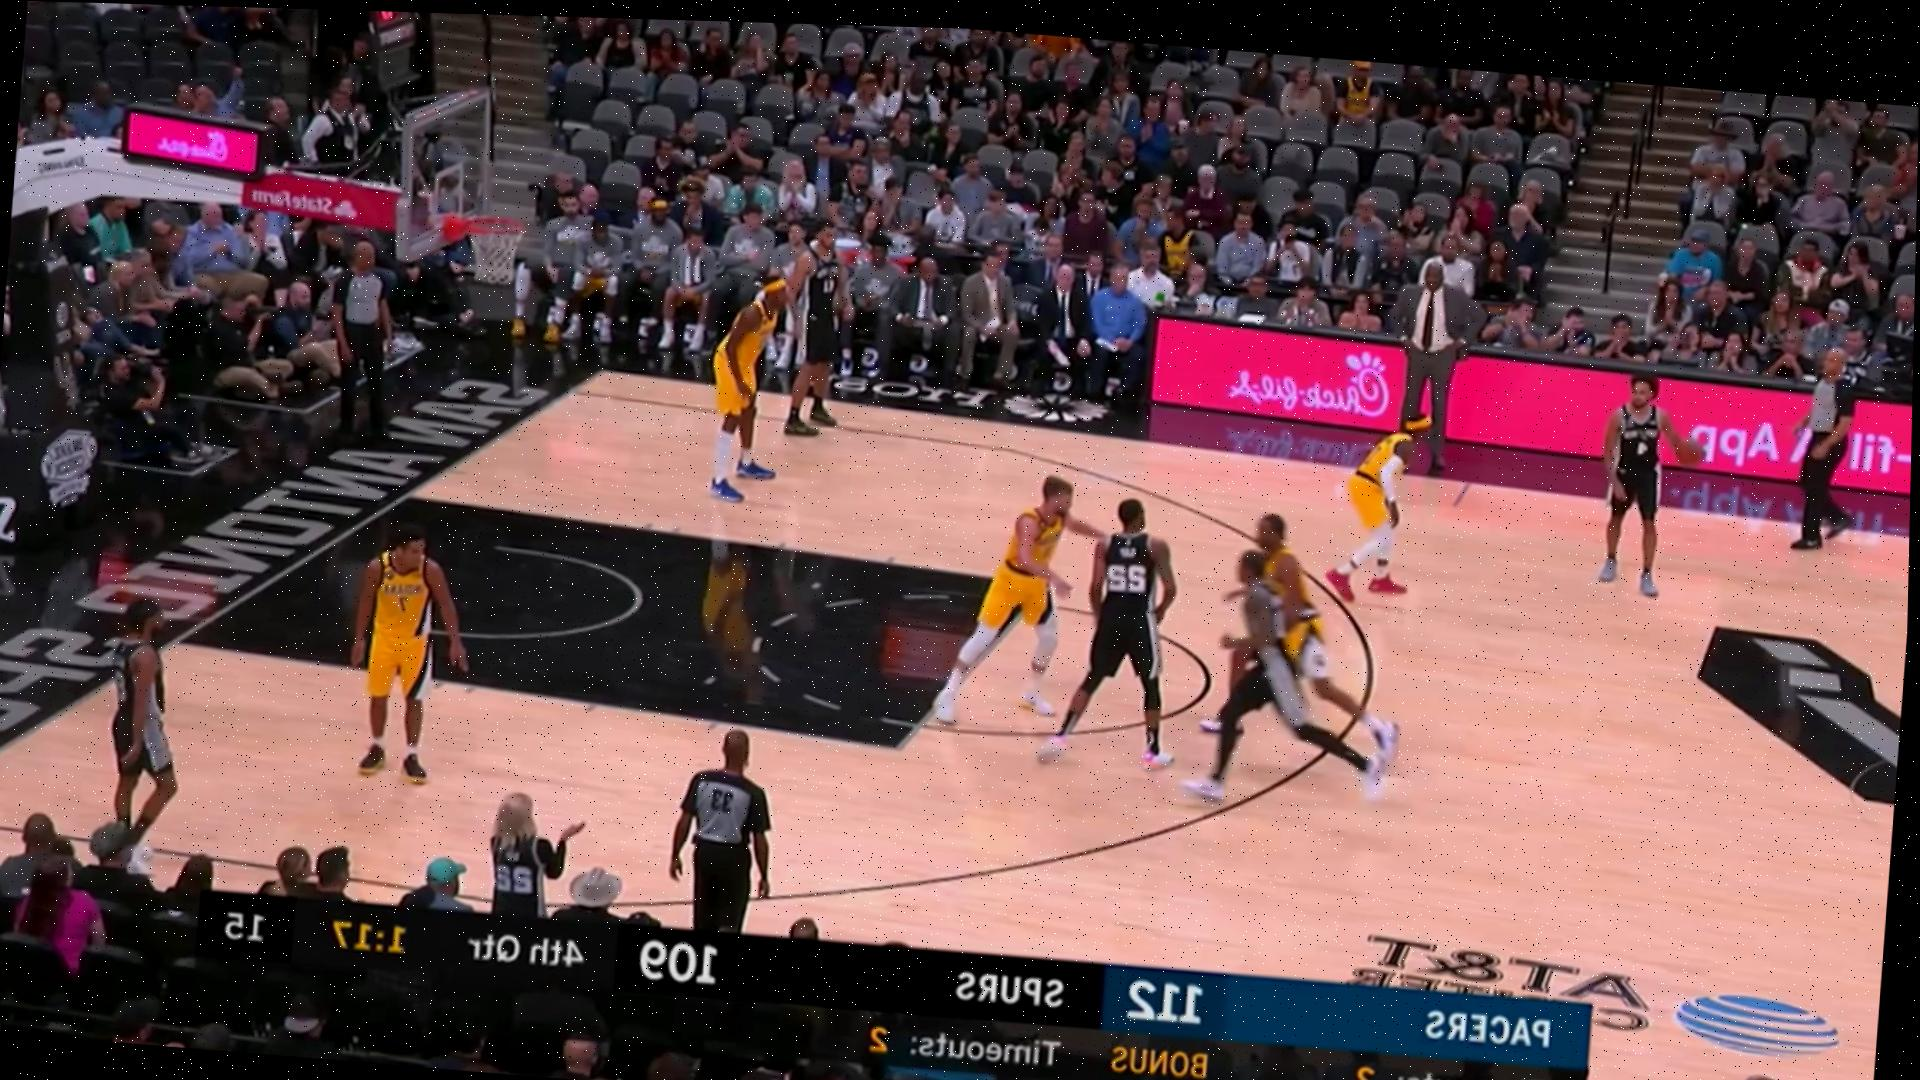no_foul: (1202, 502, 1335, 776)
